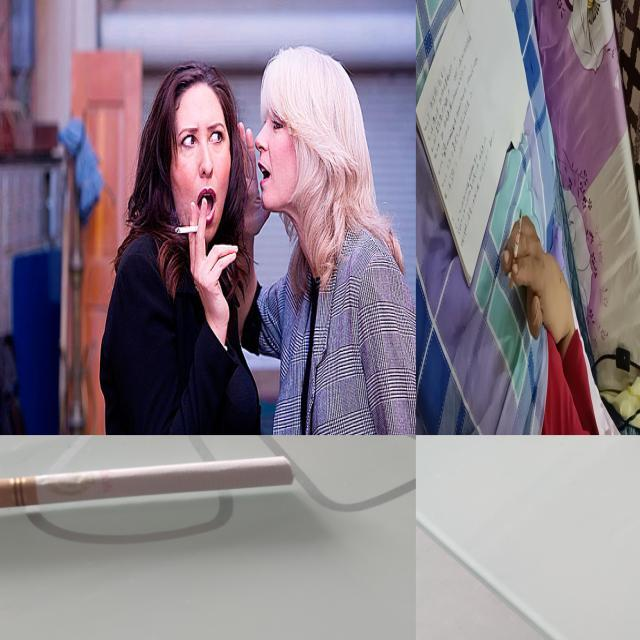smoking: (0, 455, 295, 517), (510, 208, 523, 290), (174, 224, 202, 236)
